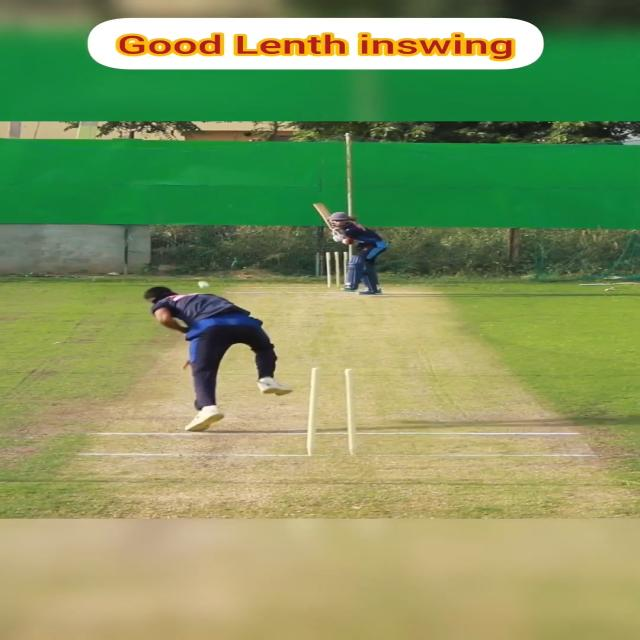ball: (198, 281, 210, 289)
stump: (304, 367, 359, 456), (324, 251, 349, 288)
